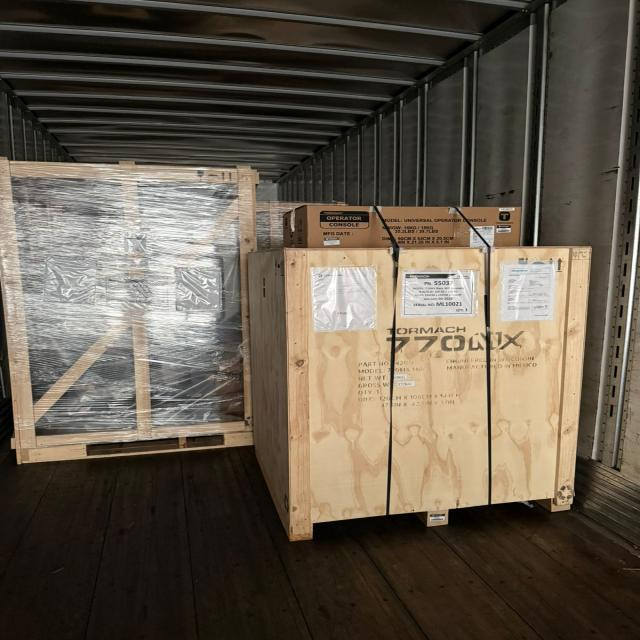15lx: (0, 162, 257, 461)
770b: (249, 205, 590, 541)
